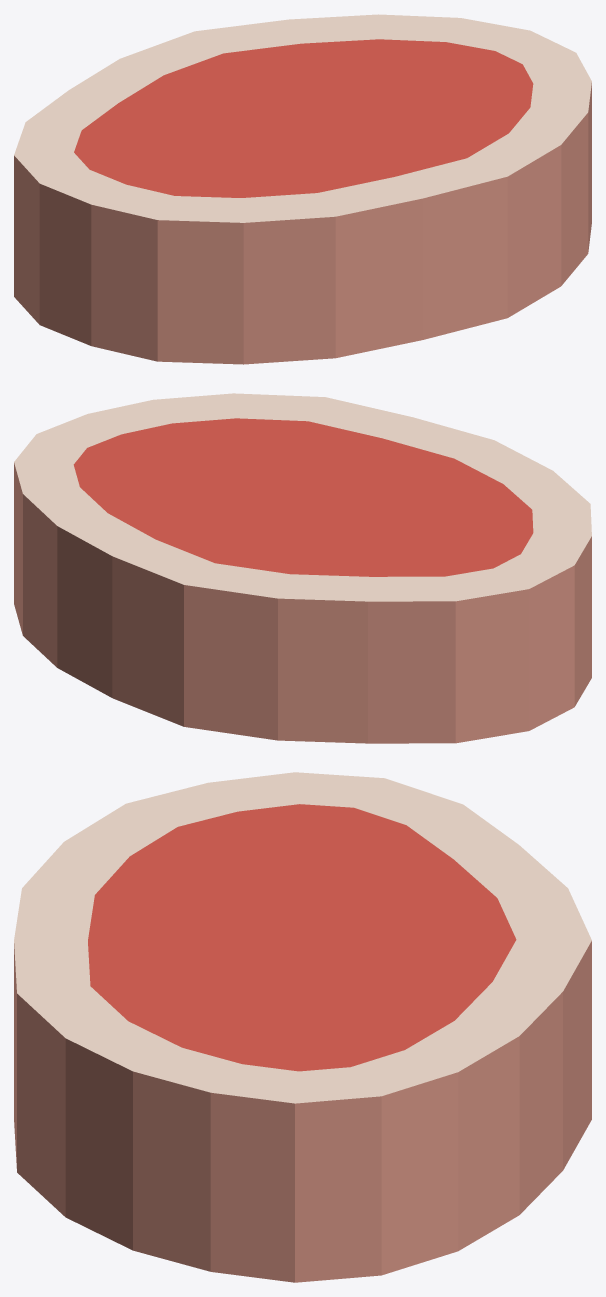
3 renders of one model, top to bottom at view 1: azimuth 30°, elevation 25°; view 2: azimuth 150°, elevation 25°; view 3: azimuth 270°, elevation 25°, orthographic. The views are drawn at different scales.
Parts seen in each view (by area): view 1: Steak; view 2: Steak; view 3: Steak.
Part boxes in pixels (x1,y1,x2,y2): Steak: (14, 14, 591, 364); Steak: (14, 393, 591, 743); Steak: (14, 772, 591, 1282).
Bounding box in the file's own units: 29.74 × 7.5 × 21.93.
